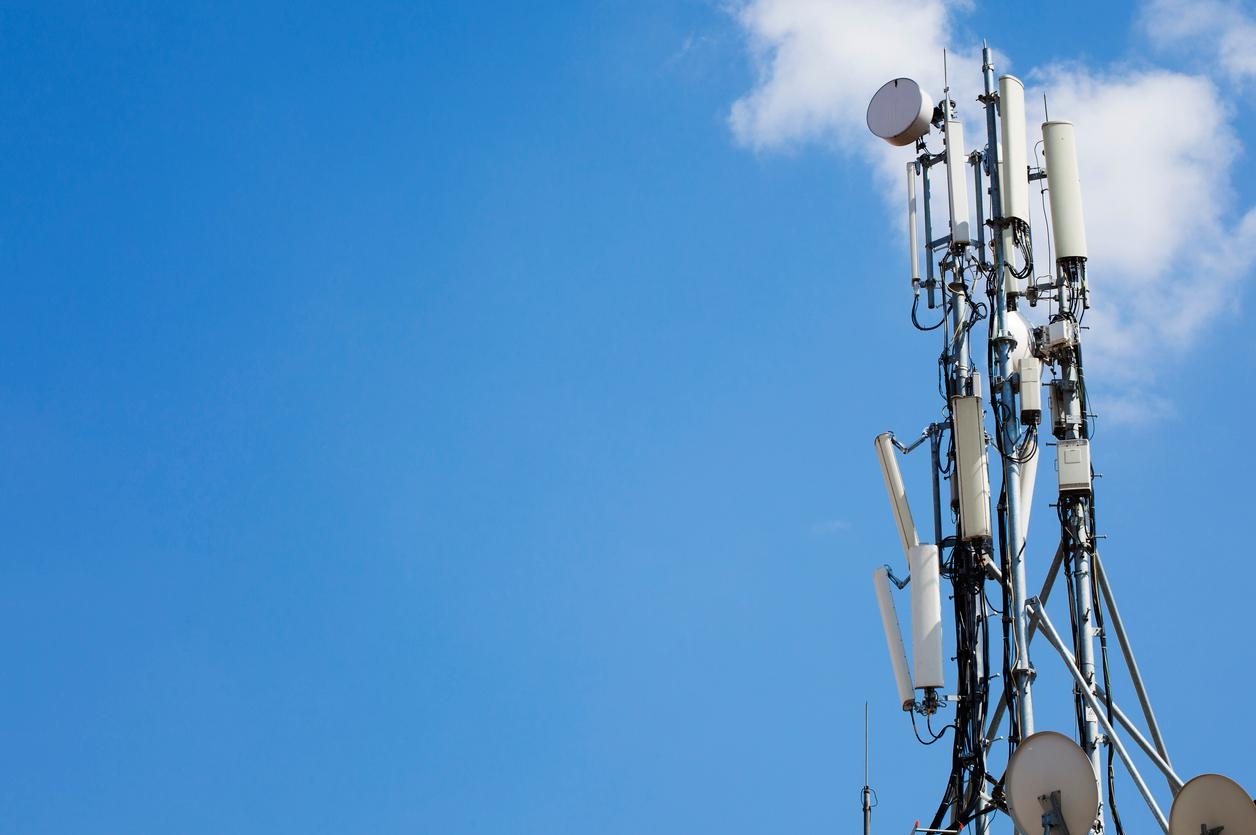ba: (847, 73, 936, 160)
sa: (862, 414, 936, 576), (1033, 109, 1097, 296), (939, 376, 1000, 563), (901, 533, 956, 705), (855, 544, 910, 704), (995, 62, 1033, 266), (889, 147, 928, 311), (939, 108, 974, 279)
